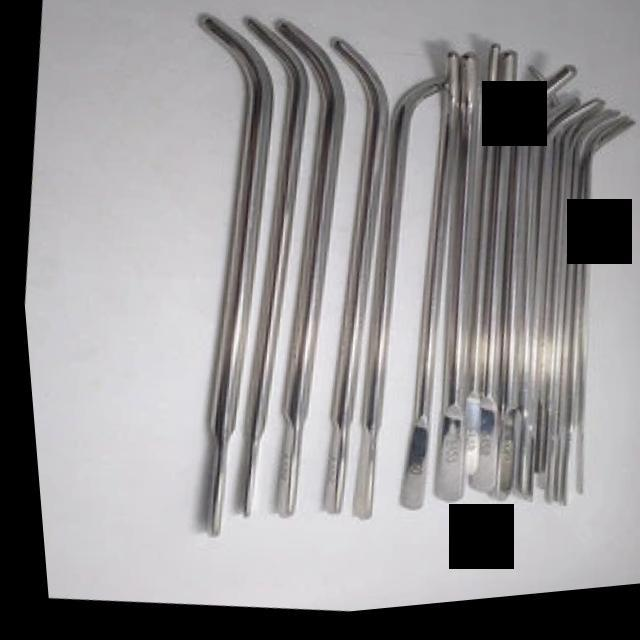Urethral Dilators: (108, 0, 317, 561), (172, 0, 348, 547), (413, 40, 604, 519), (209, 12, 378, 550), (259, 30, 421, 551), (316, 56, 476, 556), (355, 42, 503, 538), (512, 100, 634, 520)
